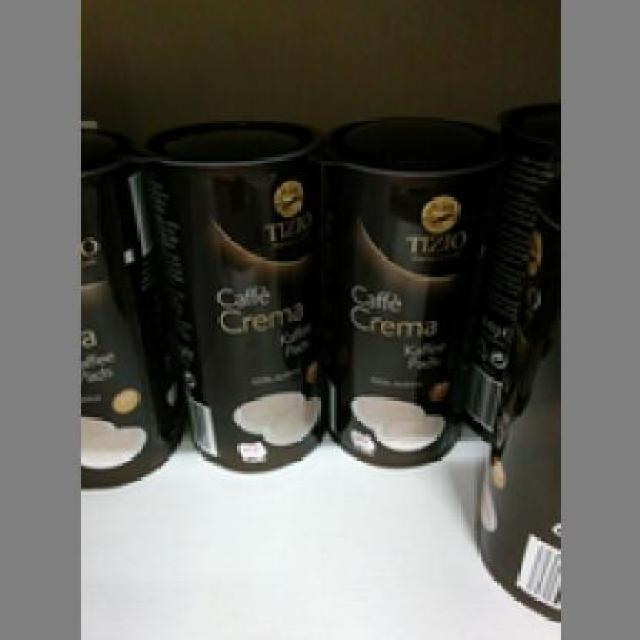Coffee: (143, 117, 326, 472), (323, 114, 500, 463)
